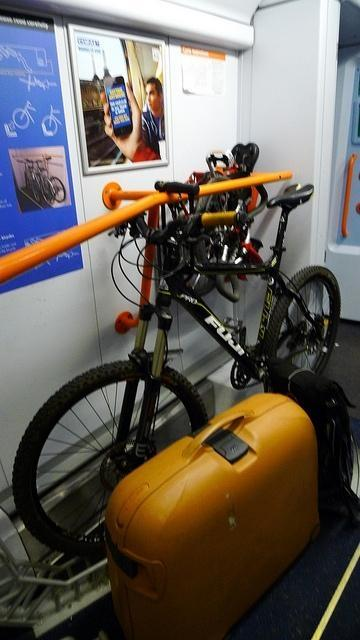bicycle: (12, 182, 342, 564)
